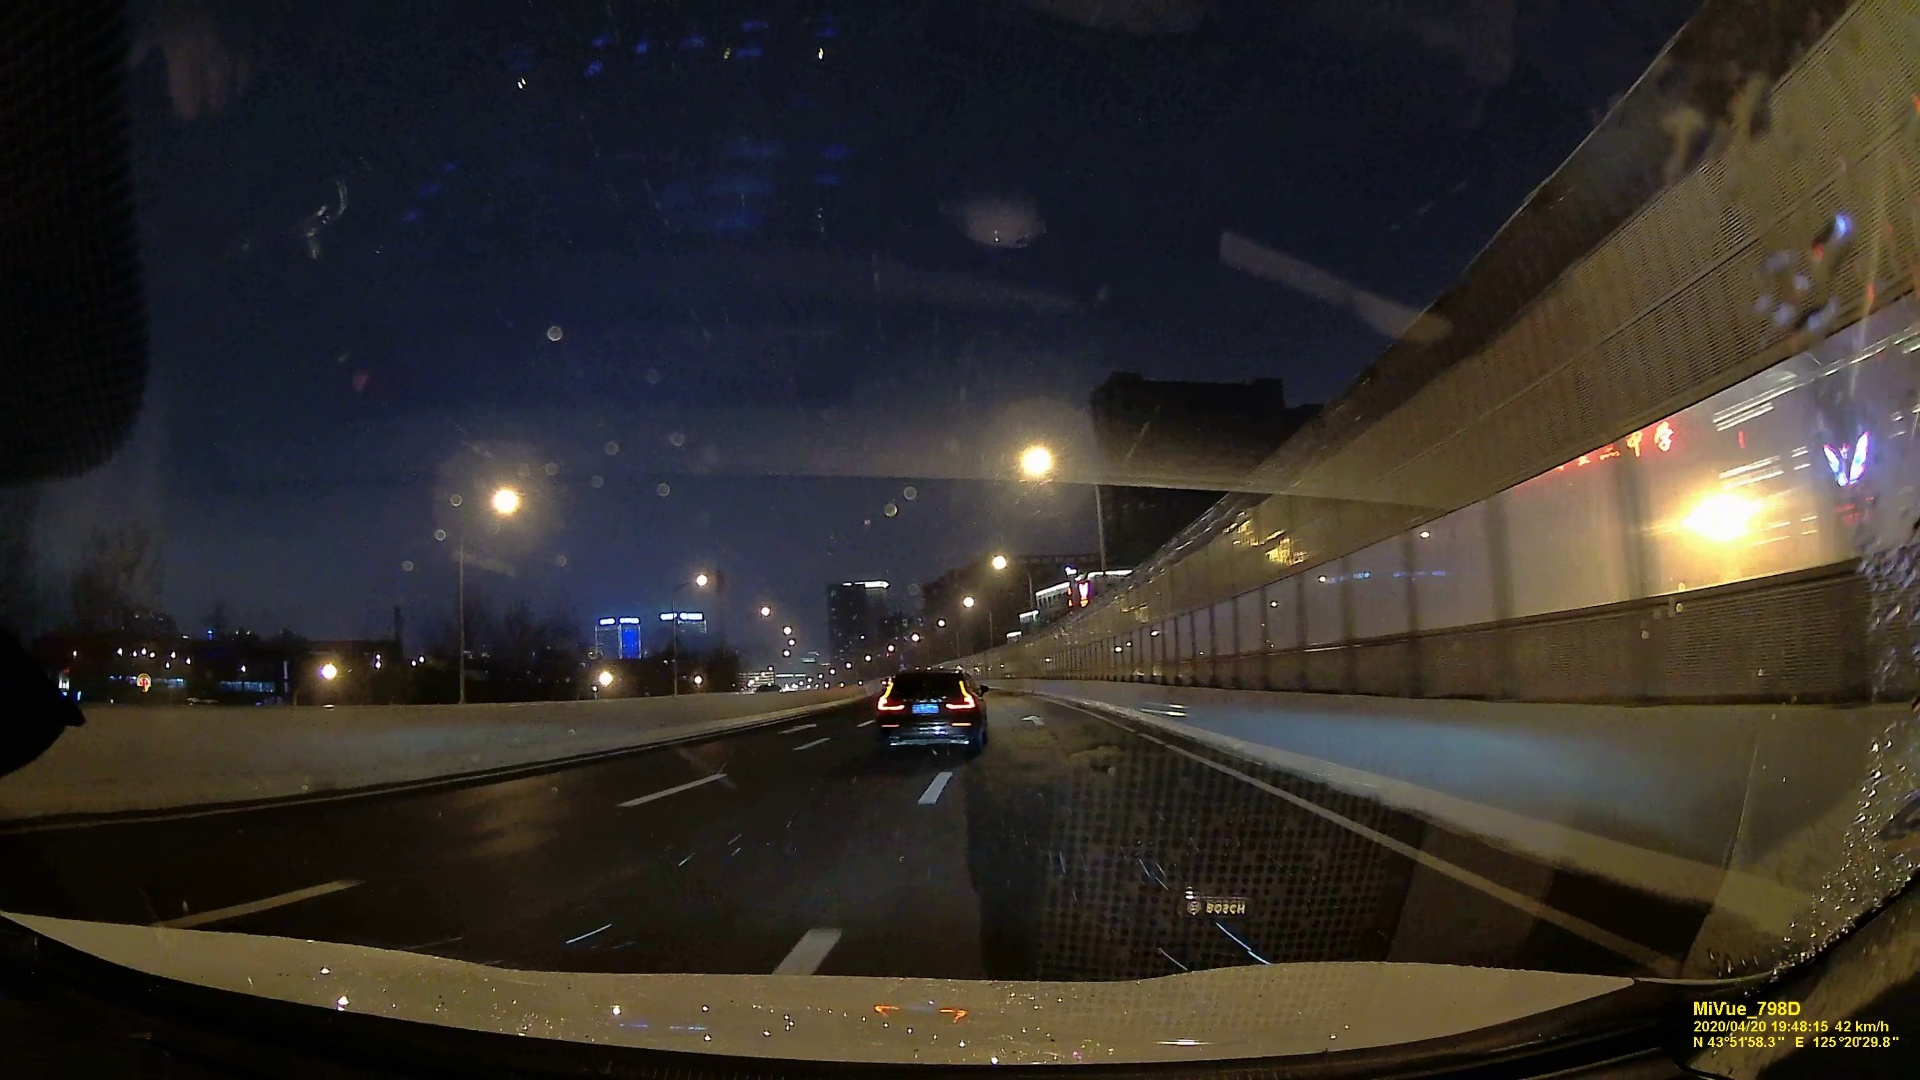vehicle: (876, 665, 986, 750)
